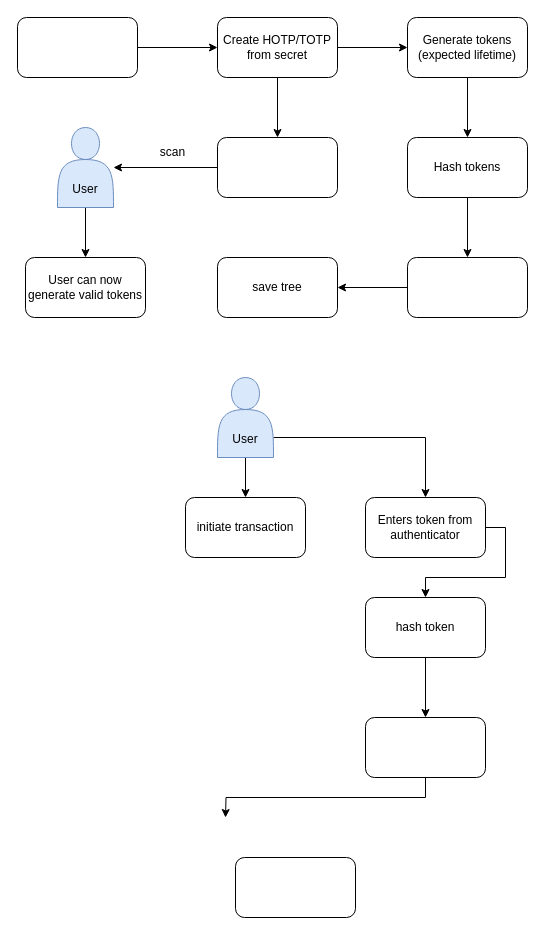
This 545x935 diagram has some shape labels left out. The box of each missing label's shape, as (x1, y1, x2, y2) in pixels:
Build merkle tree: (406, 256, 528, 318)
Generate google auth QRcode: (216, 136, 338, 198)
generate merkle proof: (364, 716, 486, 778)
Generate OTP secret: (16, 16, 138, 78)
send token + proof to smart contract: (234, 856, 356, 918)
